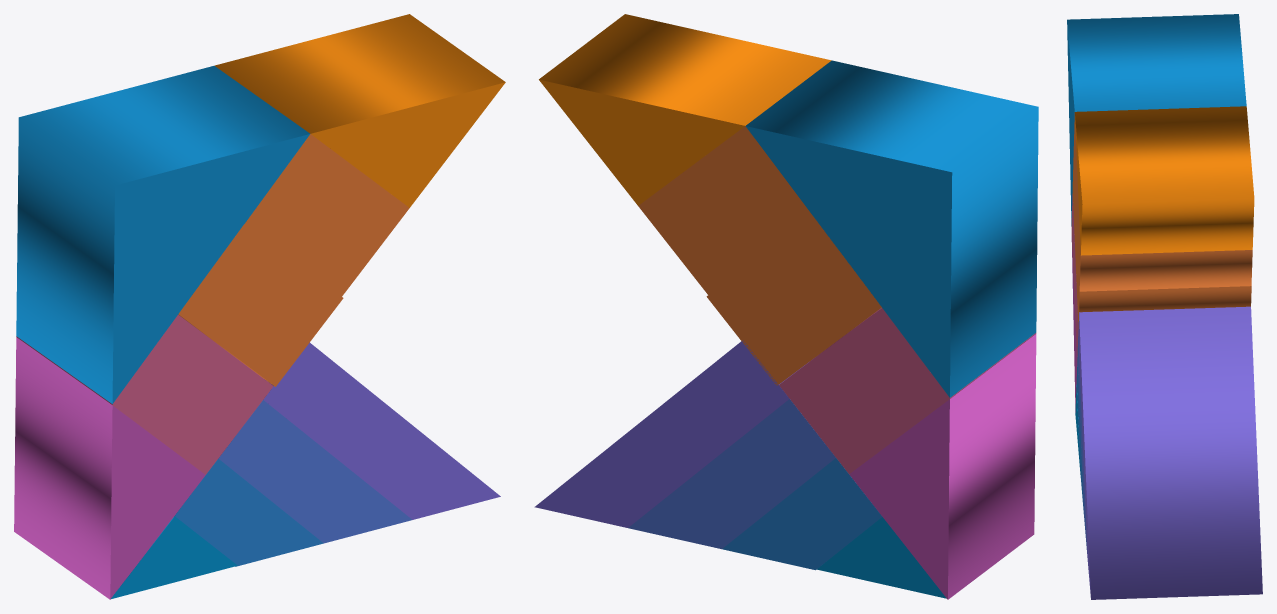
File: kotlin-transformed.glb
3 renders of one model, left to right at view 1: azimuth 30°, elevation 25°; view 2: azimuth 150°, elevation 25°; view 3: azimuth 270°, elevation 25°, orthographic. The views are drawn at different scales.
Visible parts, largest first — view 1: Curve, Curve.006, Curve.002, Curve.014, Curve.004, Curve.005, Curve.003, Curve.013, Curve.012, Curve.011; view 2: Curve, Curve.006, Curve.002, Curve.014, Curve.004, Curve.005, Curve.003, Curve.013, Curve.012, Curve.011; view 3: Curve.014, Curve.006, Curve, Curve.005, Curve.004, Curve.003, Curve.013, Curve.002, Curve.012.
Boxes of the visible parts, box(x1,y1,x2,y2) form: Curve: box(16, 66, 309, 403); Curve.006: box(214, 14, 505, 207); Curve.002: box(14, 337, 205, 599); Curve.014: box(263, 342, 500, 519); Curve.004: box(178, 224, 343, 386); Curve.005: box(244, 134, 409, 296); Curve.003: box(16, 314, 273, 474); Curve.013: box(218, 400, 412, 543); Curve.012: box(174, 459, 323, 566); Curve.011: box(111, 516, 237, 598); Curve: box(745, 60, 1038, 397); Curve.006: box(539, 14, 831, 205); Curve.002: box(849, 334, 1036, 599); Curve.014: box(534, 340, 808, 527); Curve.004: box(706, 217, 881, 385); Curve.005: box(638, 126, 813, 294); Curve.003: box(779, 308, 1036, 473); Curve.013: box(628, 399, 835, 549); Curve.012: box(722, 458, 882, 570); Curve.011: box(817, 517, 946, 598); Curve.014: box(1078, 306, 1262, 599); Curve.006: box(1074, 106, 1254, 255); Curve: box(1067, 14, 1246, 226); Curve.005: box(1073, 113, 1252, 291); Curve.004: box(1072, 154, 1251, 329); Curve.003: box(1071, 194, 1078, 362); Curve.013: box(1077, 337, 1087, 553); Curve.002: box(1071, 236, 1077, 412); Curve.012: box(1076, 359, 1083, 513).
Bounding box in the file's own units: 5.34 × 5.3 × 2.36.
